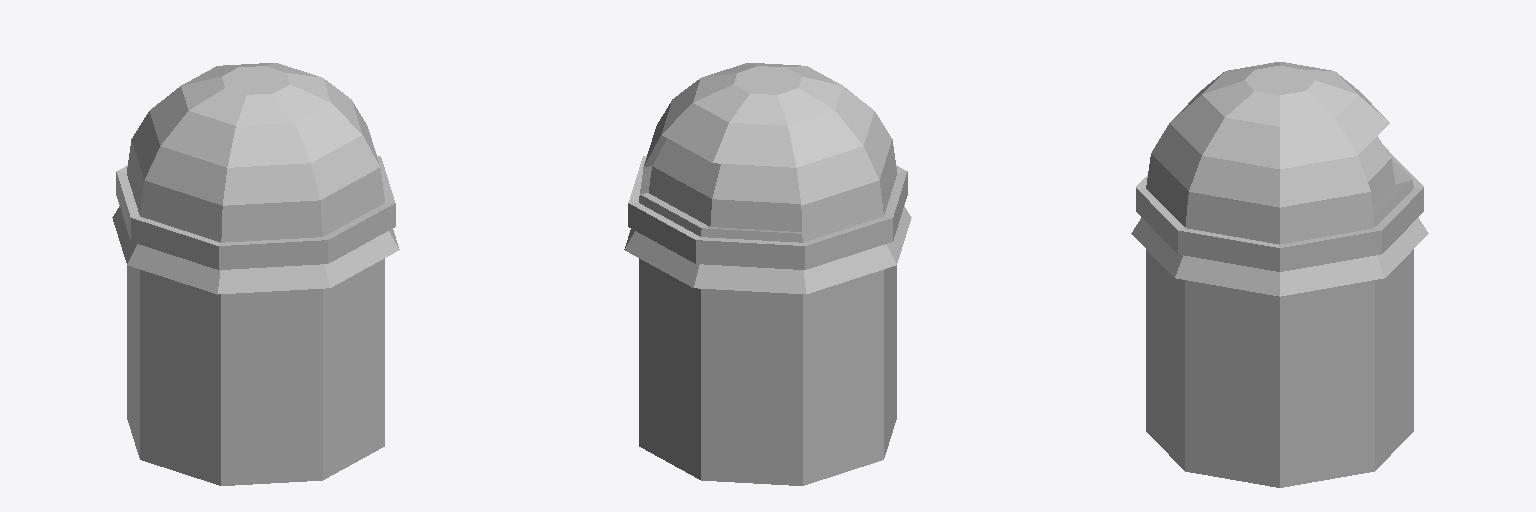
Rendered from trashcan.obj.
3 views of the same model, side by side, from view 1: azimuth 30°, elevation 25°; view 2: azimuth 150°, elevation 25°; view 3: azimuth 270°, elevation 25° (orthographic).
Visible parts, largest first — view 1: trashcan; view 2: trashcan; view 3: trashcan.
Part boxes in pixels (left/top/right/bottom): trashcan: left=112, top=63, right=399, bottom=485; trashcan: left=624, top=63, right=911, bottom=485; trashcan: left=1131, top=62, right=1428, bottom=487.
Size of the model in its own units: 2.22 by 2.89 by 2.22.